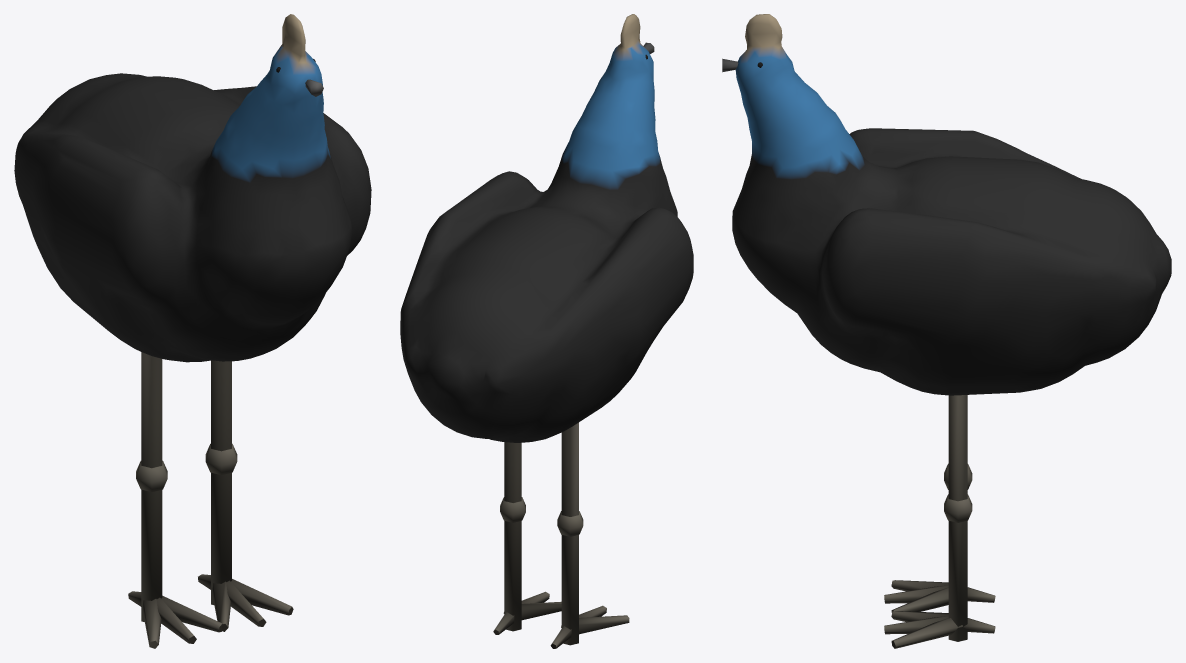
File: kasuar.glb
3 renders of one model, left to right at view 1: azimuth 30°, elevation 25°; view 2: azimuth 150°, elevation 25°; view 3: azimuth 270°, elevation 25°, orthographic. The views are drawn at different scales.
Visible parts, largest first — view 1: lack; view 2: lack; view 3: lack.
Boxes of the visible parts, x1,y1,x2,y2 form: lack: [14, 14, 371, 648]; lack: [400, 14, 693, 648]; lack: [722, 14, 1171, 648].
Size of the model in its own units: 0.6696 by 1.63 by 1.09.
